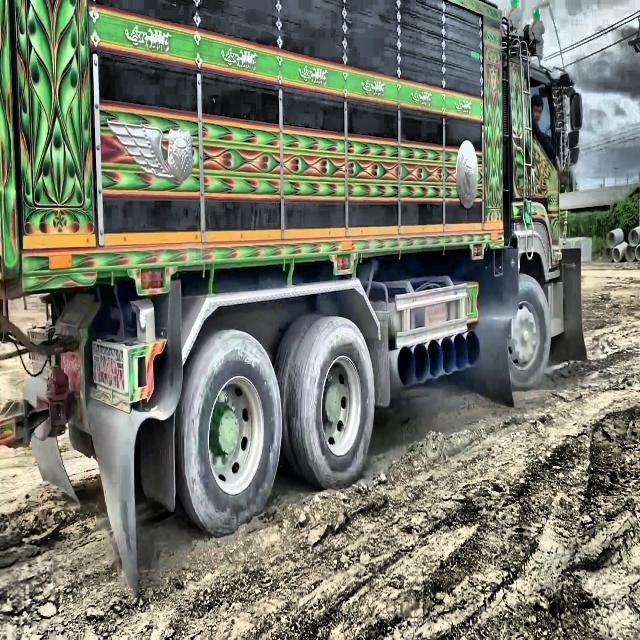trailer: (0, 0, 566, 540)
